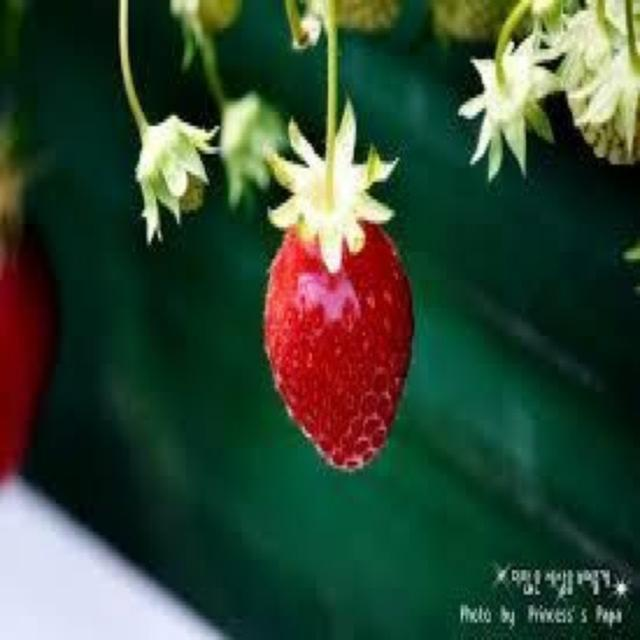strawberry: (265, 220, 415, 476), (139, 115, 207, 211)
